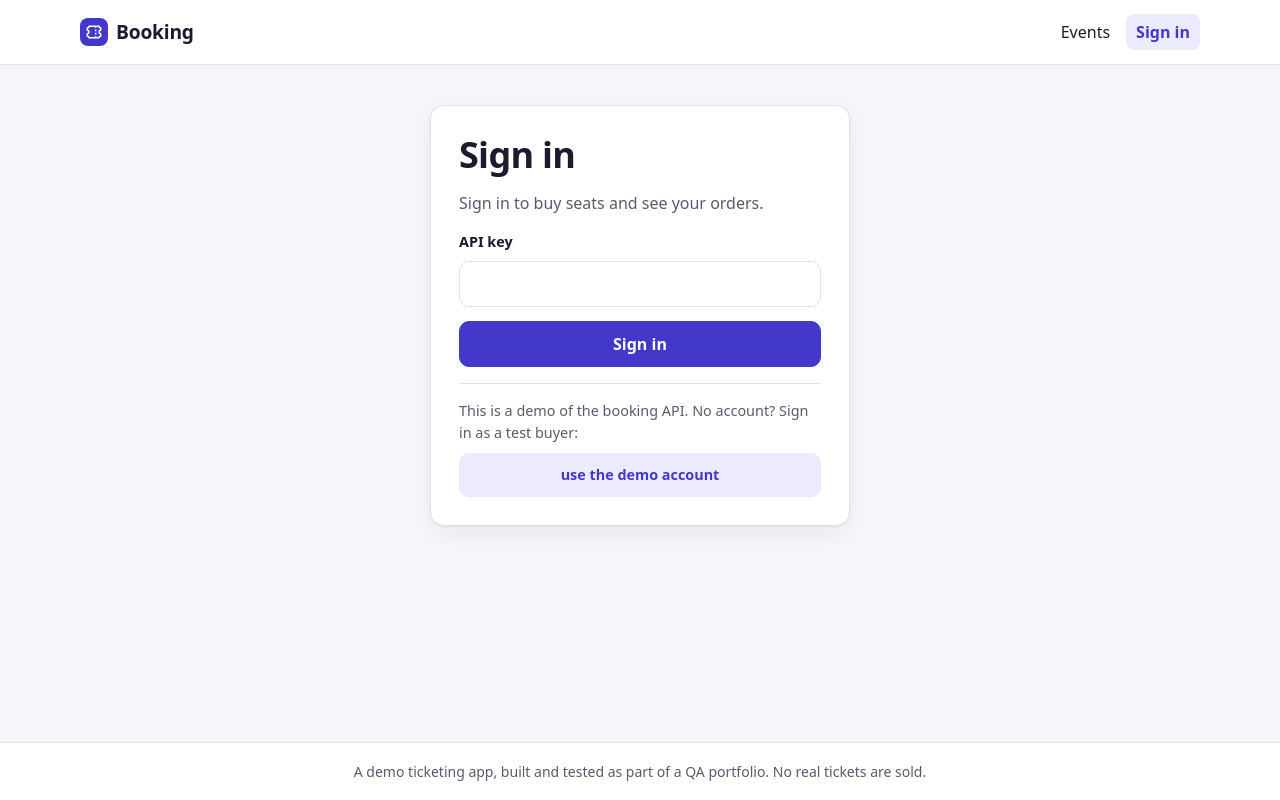
SignInPage › signs in and goes back where you came from
The width and height of the screenshot is (1280, 800).
Type "key-user-2" into the password field labelled "API key" at [640, 284], box left=459, top=261, right=821, bottom=307
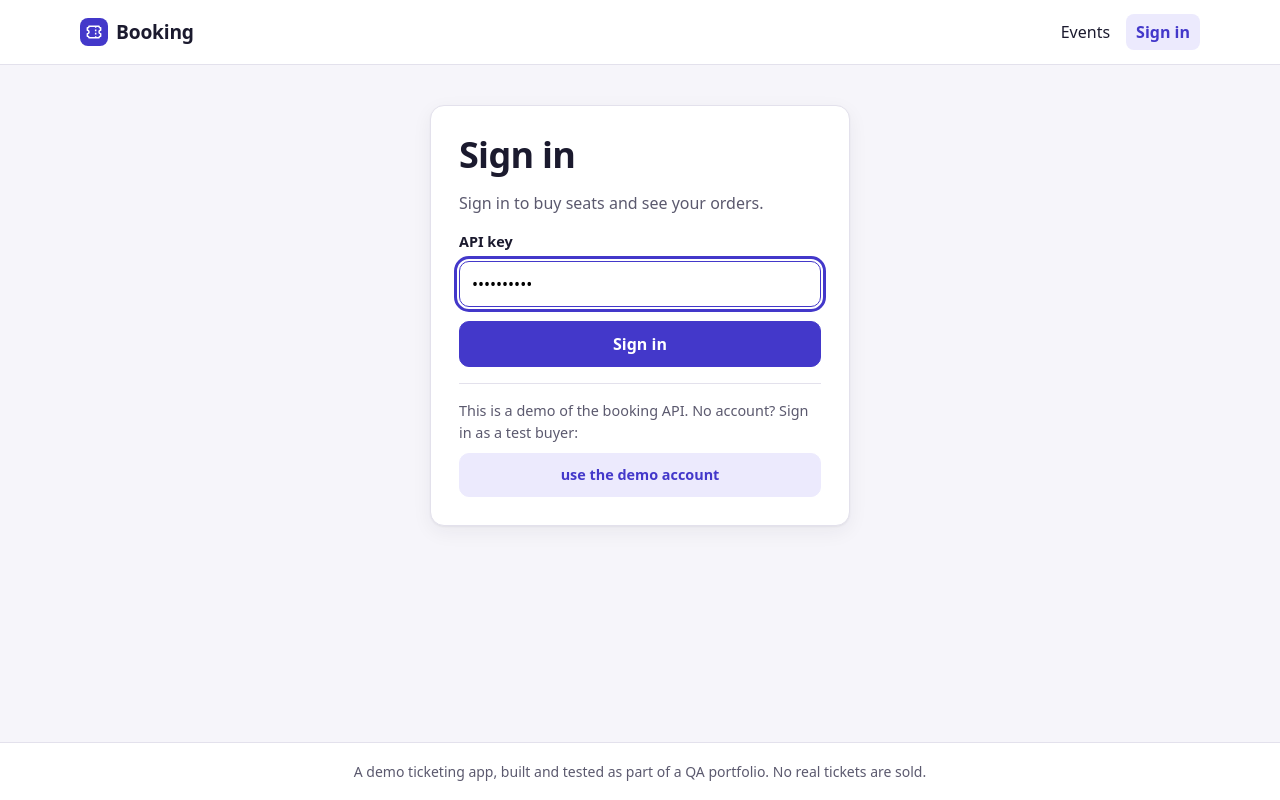
Click the button "Sign in" at [640, 344], box left=459, top=321, right=821, bottom=367
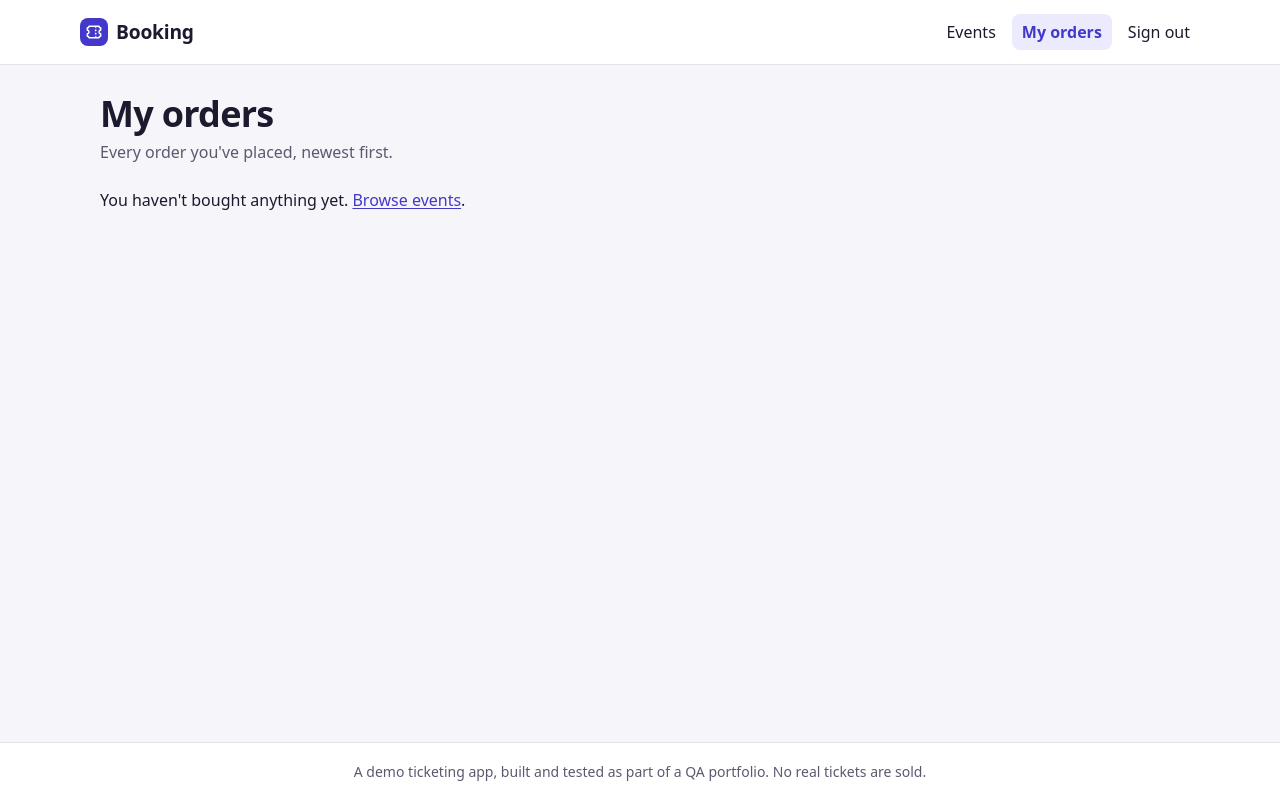
Expected: the heading "My orders" is shown, left=100, top=89, right=274, bottom=138
